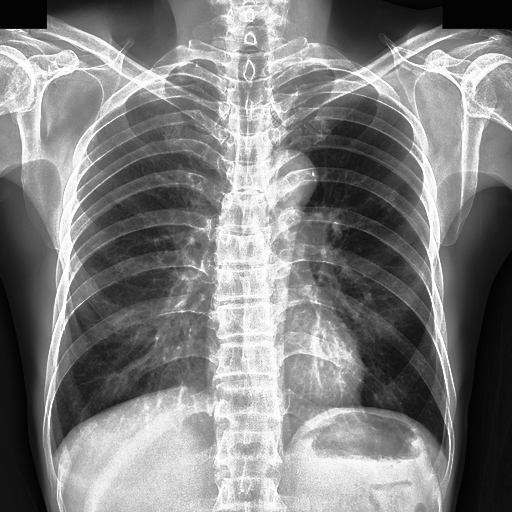Consolidation: (253, 149, 317, 203)
Pneumothorax: (365, 186, 399, 213)
